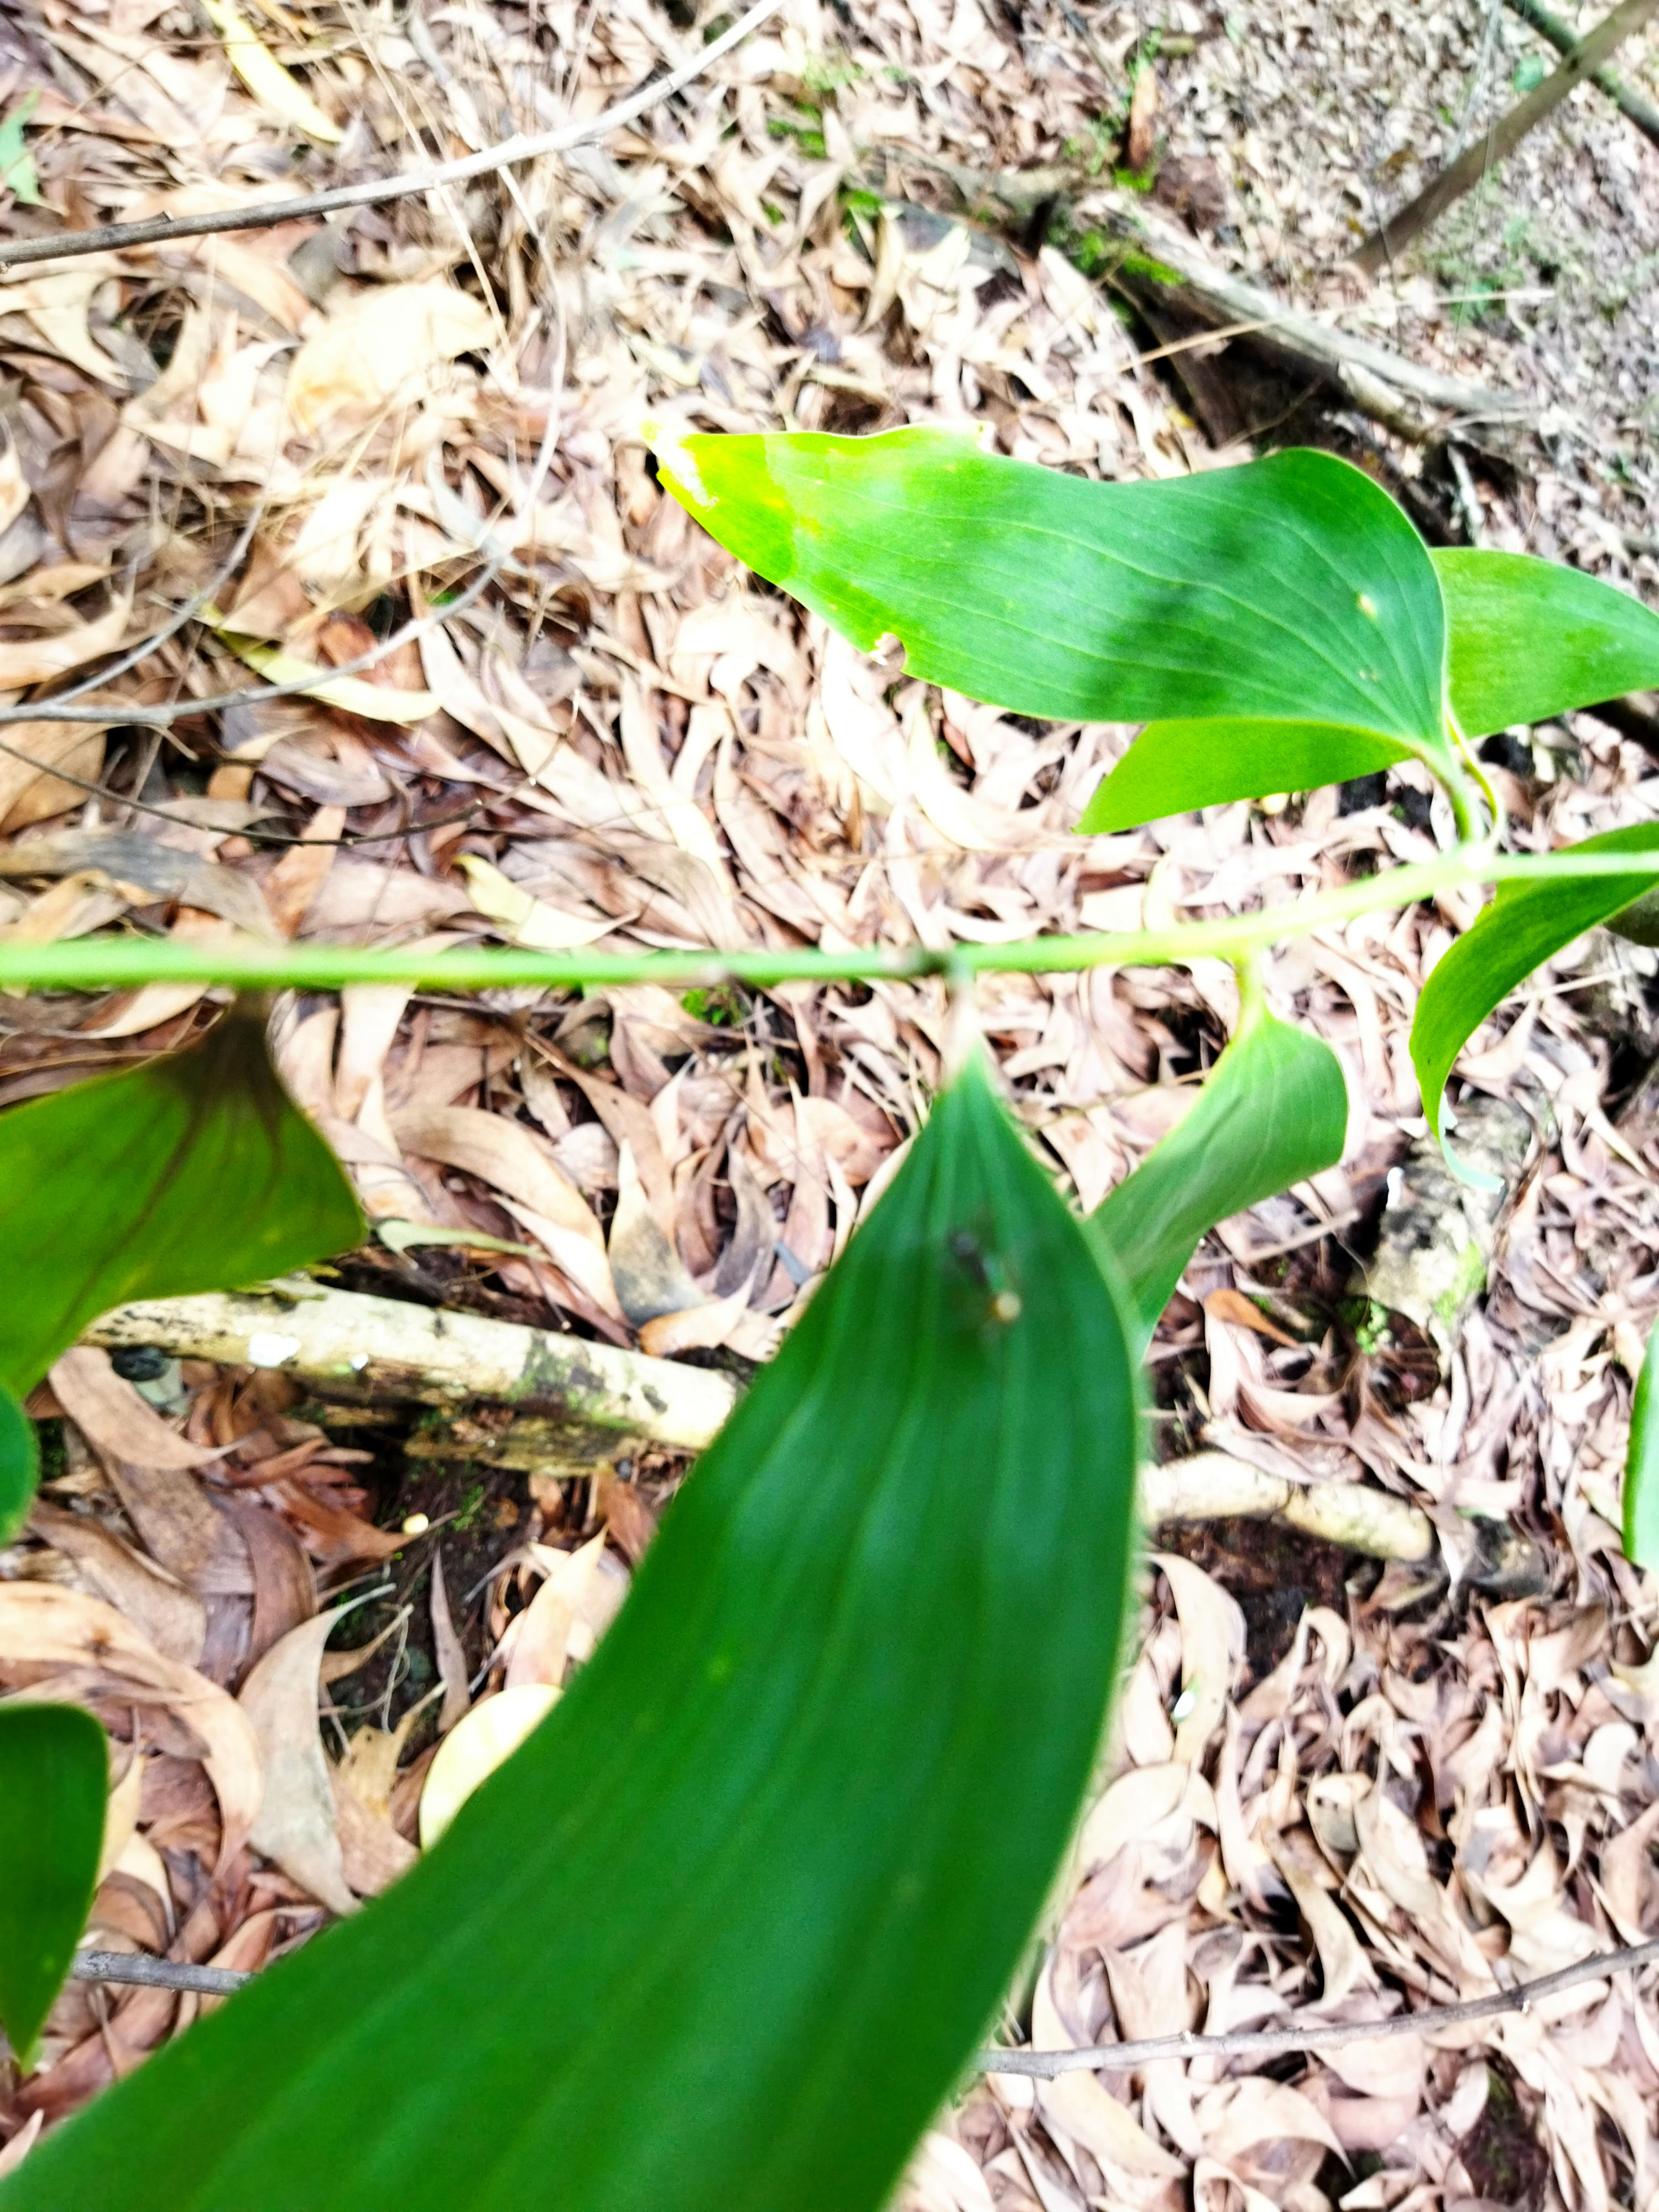Helopeltis-insect: (897, 1202, 1058, 1366)
